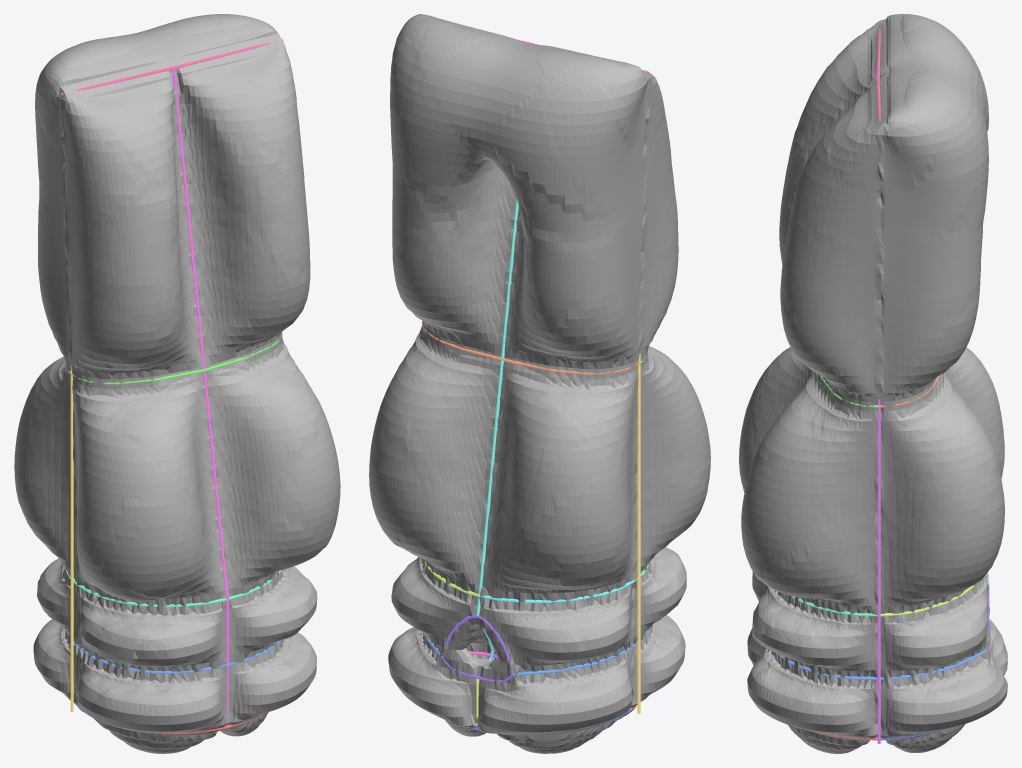
The model's file is t2f_toothpaste.gltf.
3 renders of one model, left to right at view 1: azimuth 30°, elevation 25°; view 2: azimuth 150°, elevation 25°; view 3: azimuth 270°, elevation 25°, orthographic. The views are drawn at different scales.
Bounding box in the file's own units: 0.3748 × 0.9768 × 0.3535.
